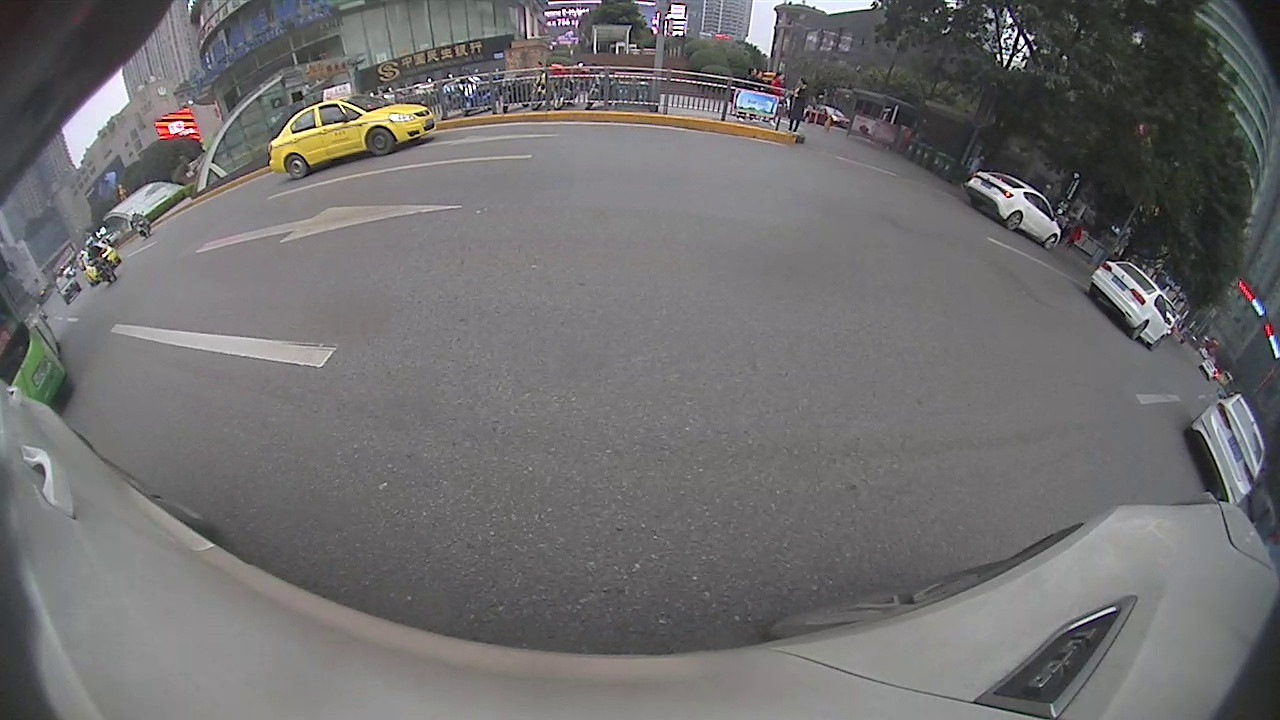car: (264, 80, 436, 181), (1182, 391, 1266, 511), (963, 170, 1062, 253), (1086, 257, 1169, 352), (82, 236, 121, 285)
front: (363, 126, 398, 158), (1043, 233, 1060, 252)
person: (794, 76, 807, 135)
rear: (284, 154, 309, 180), (1131, 320, 1148, 342), (1007, 210, 1023, 231)
